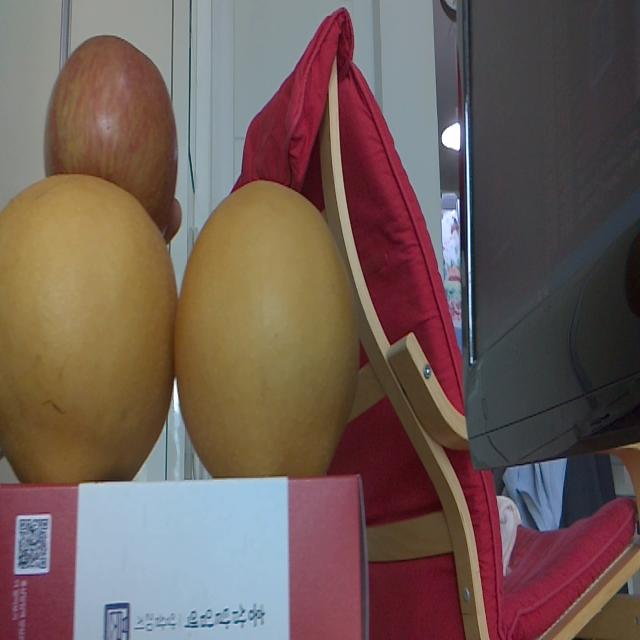apple: (44, 32, 178, 176)
pear: (177, 179, 360, 476), (1, 175, 175, 482)
